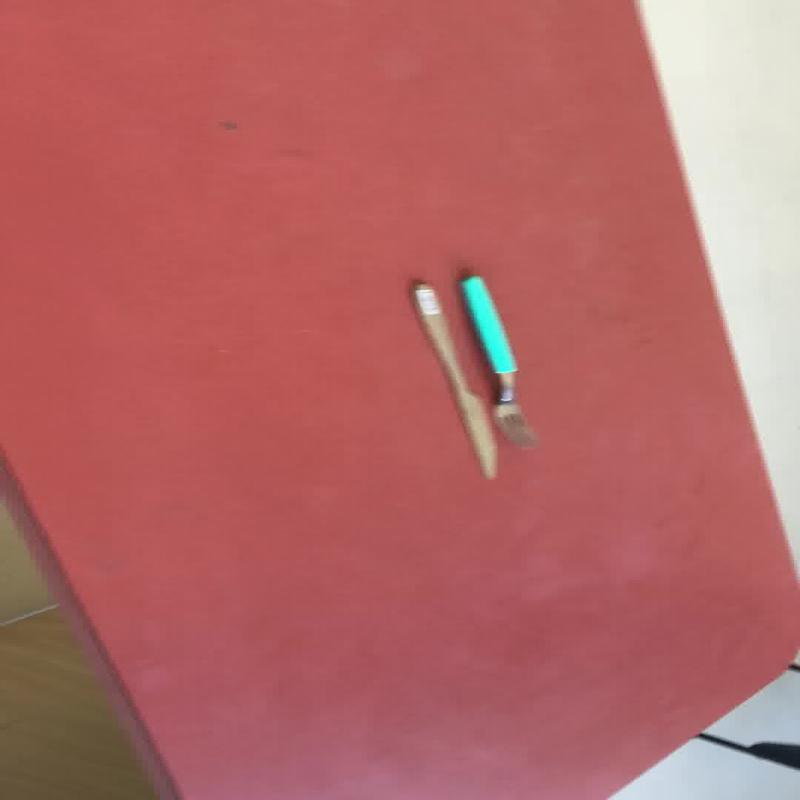fork: (408, 278, 497, 480), (455, 267, 533, 445)
knife: (408, 278, 497, 480), (455, 267, 533, 445)
